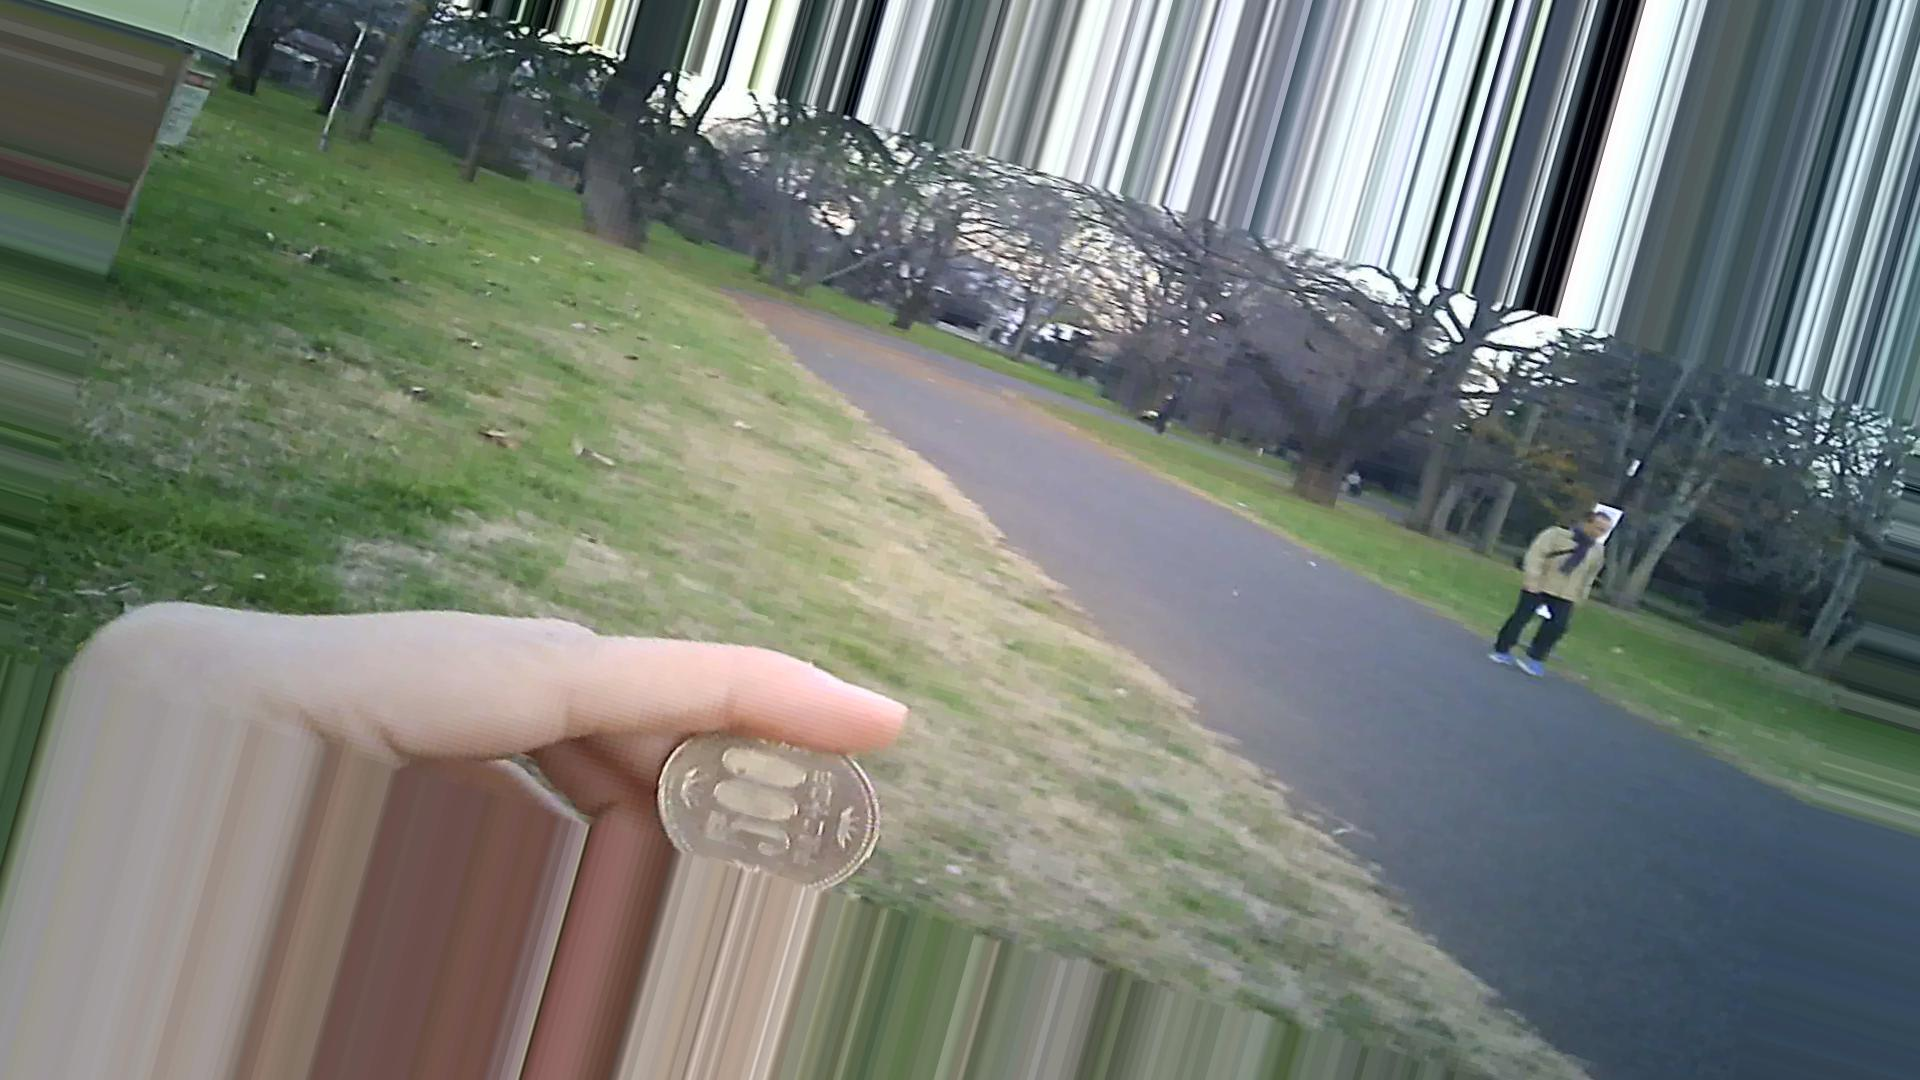500 Yen: (638, 704, 905, 887)
